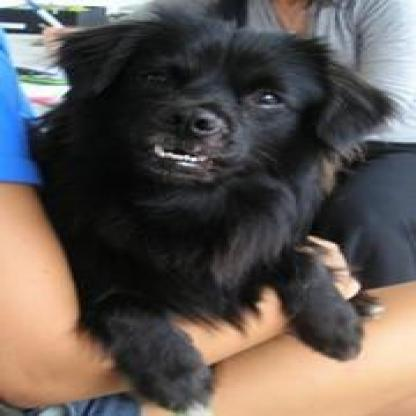schipperke: (16, 12, 400, 413)
